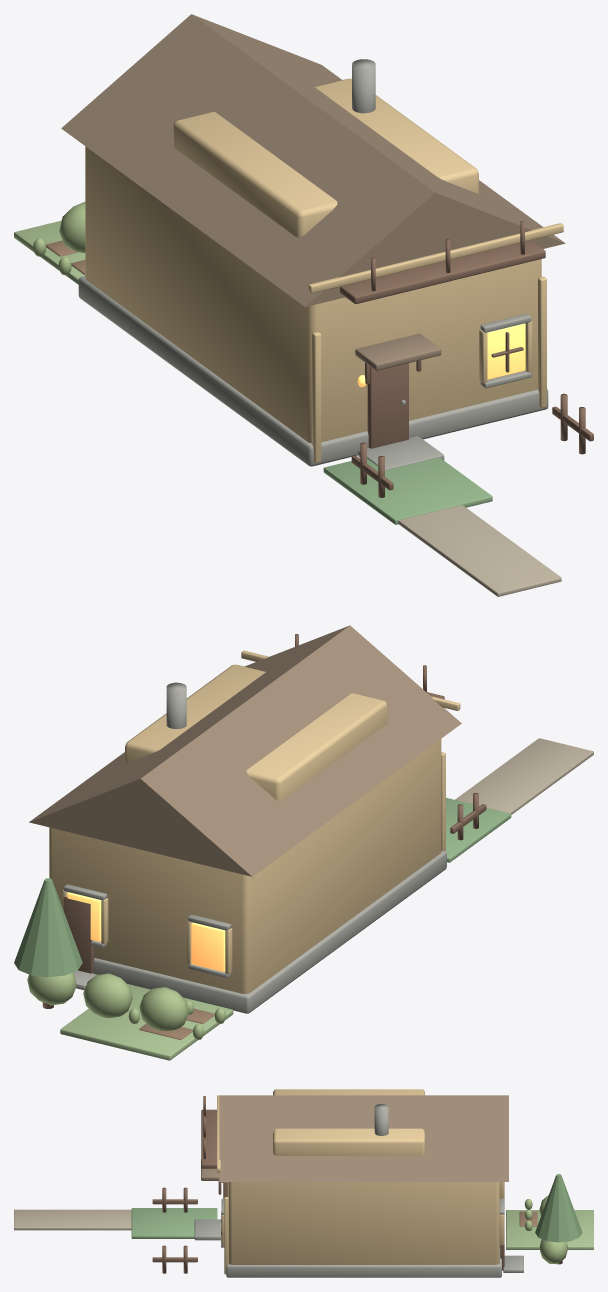
File: hillstep_chalet_v1.lod0.glb
3 renders of one model, top to bottom at view 1: azimuth 30°, elevation 25°; view 2: azimuth 150°, elevation 25°; view 3: azimuth 270°, elevation 25°, orthographic. The views are drawn at different scales.
Visible parts, largest first — view 1: MainRoof, MainBody, UpperLoft, StonePlinth, Driveway, FrontGreenVerge, FrontBalcony, PublicDoor, FrontFascia, DoorCanopy, FrontWindow1, PublicStep (+5 smaller); view 2: MainRoof, MainBody, UpperLoft, StonePlinth, Driveway, RearYardPatch, YardTreeCrown, FrontGreenVerge, Hedge2, Hedge1, RearWindow1, ServiceDoor (+3 smaller); view 3: MainBody, MainRoof, UpperLoft, StonePlinth, Driveway, FrontGreenVerge, YardTreeCrown, RearYardPatch, FrontBalcony, PublicStep, Hedge3, Chimney (+2 smaller).
Boxes of the visible parts, bbox=[...] form: MainRoof: bbox=[61, 14, 565, 306]; MainBody: bbox=[85, 146, 541, 443]; UpperLoft: bbox=[173, 78, 478, 237]; StonePlinth: bbox=[78, 276, 548, 466]; Driveway: bbox=[398, 505, 561, 596]; FrontGreenVerge: bbox=[323, 457, 492, 524]; FrontBalcony: bbox=[340, 240, 545, 303]; PublicDoor: bbox=[367, 363, 408, 448]; FrontFascia: bbox=[308, 223, 563, 293]; DoorCanopy: bbox=[355, 333, 441, 370]; FrontWindow1: bbox=[487, 323, 525, 379]; PublicStep: bbox=[358, 436, 444, 470]; MainRoof: bbox=[29, 625, 461, 876]; MainBody: bbox=[49, 739, 441, 993]; UpperLoft: bbox=[125, 664, 387, 801]; StonePlinth: bbox=[93, 851, 446, 1013]; Driveway: bbox=[455, 738, 593, 814]; RearYardPatch: bbox=[60, 984, 233, 1060]; YardTreeCrown: bbox=[14, 878, 82, 977]; FrontGreenVerge: bbox=[446, 797, 511, 862]; Hedge2: bbox=[83, 973, 132, 1017]; Hedge1: bbox=[139, 987, 188, 1030]; RearWindow1: bbox=[191, 922, 225, 971]; ServiceDoor: bbox=[63, 896, 94, 973]; MainBody: bbox=[228, 1182, 499, 1264]; MainRoof: bbox=[219, 1095, 508, 1181]; UpperLoft: bbox=[273, 1089, 424, 1155]; StonePlinth: bbox=[226, 1248, 501, 1277]; Driveway: bbox=[14, 1209, 131, 1230]; FrontGreenVerge: bbox=[131, 1208, 217, 1238]; YardTreeCrown: bbox=[535, 1174, 582, 1242]; RearYardPatch: bbox=[506, 1210, 593, 1249]; FrontBalcony: bbox=[201, 1109, 216, 1168]; PublicStep: bbox=[194, 1219, 221, 1240]; Hedge3: bbox=[539, 1239, 568, 1263]; Chimney: bbox=[374, 1104, 388, 1135].
Bounding box in the file's own units: 7.1 × 6.85 × 23.09.
